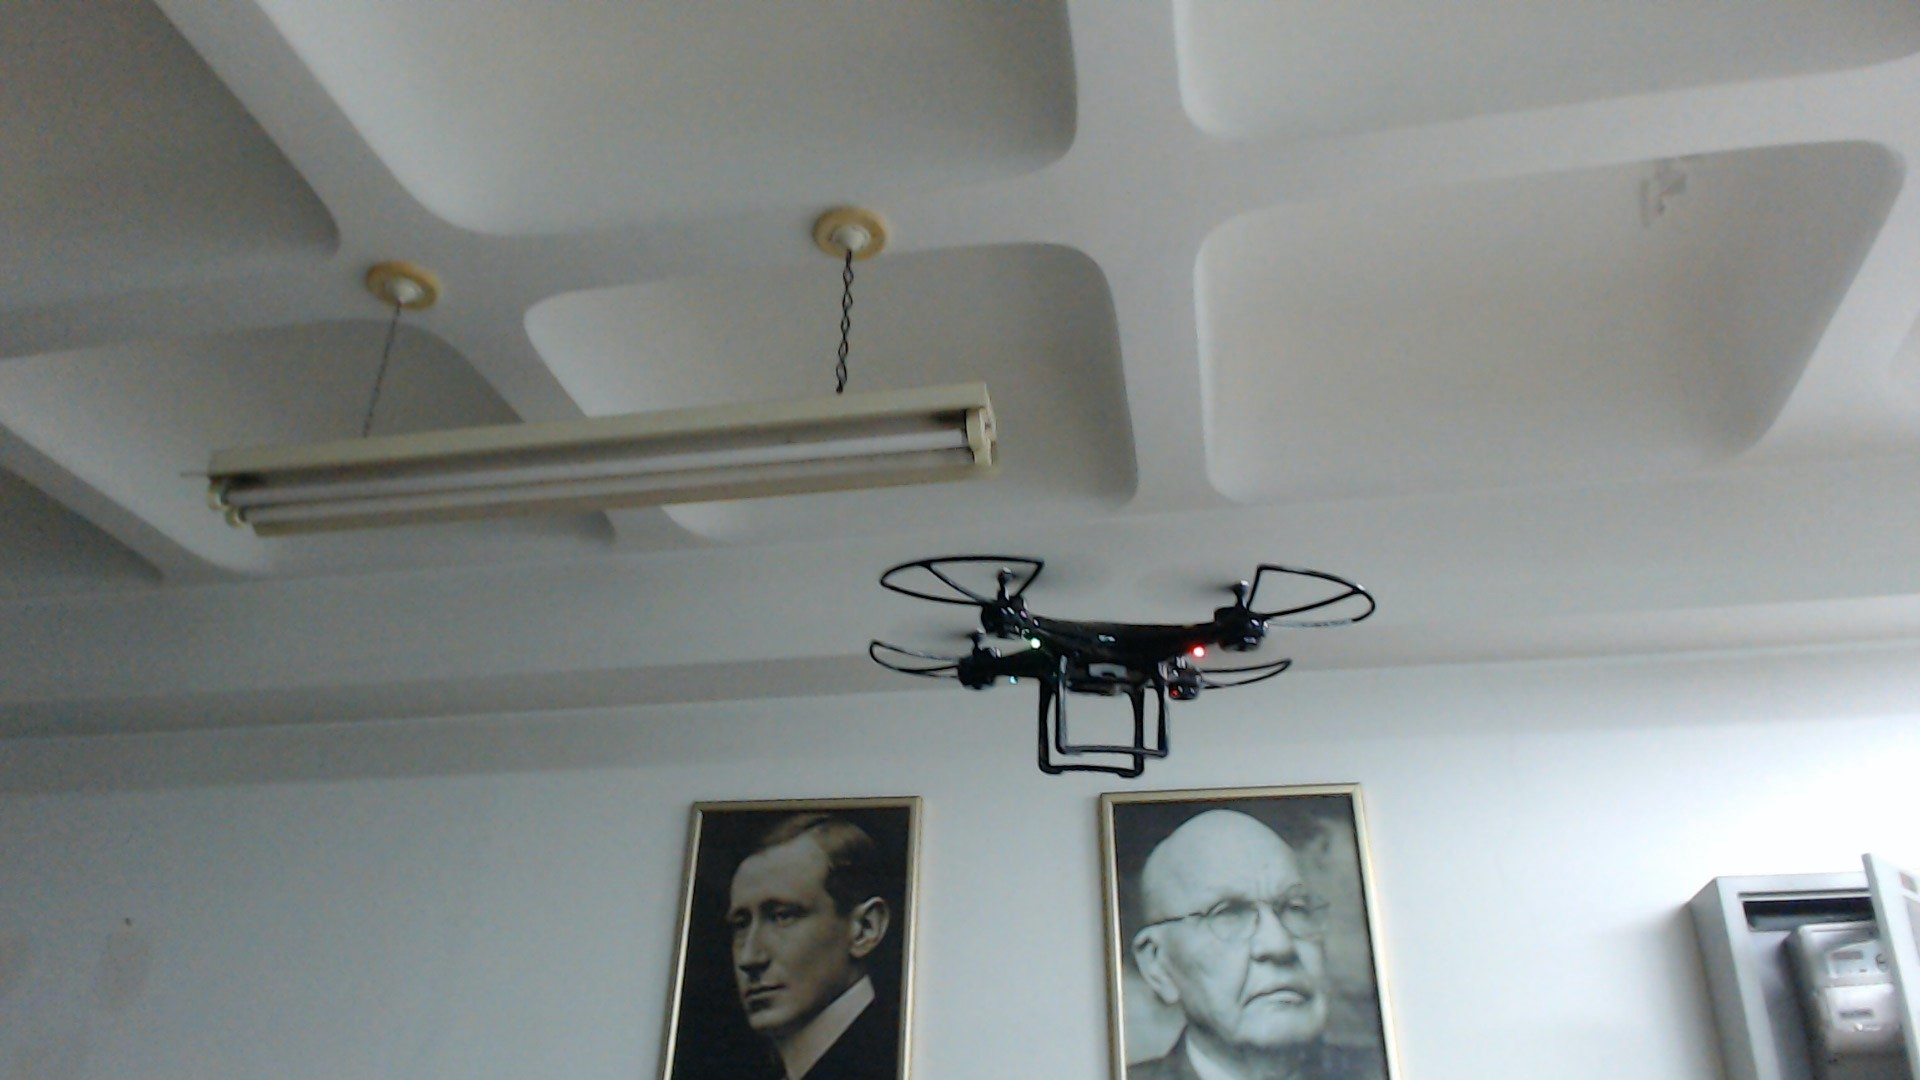test_drone: (869, 549, 1379, 785)
